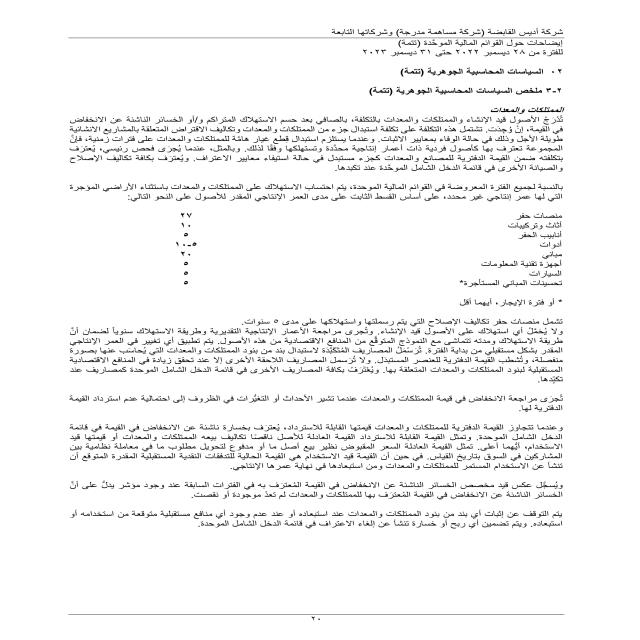notes: (400, 34, 562, 48)
text: (39, 62, 577, 546)
